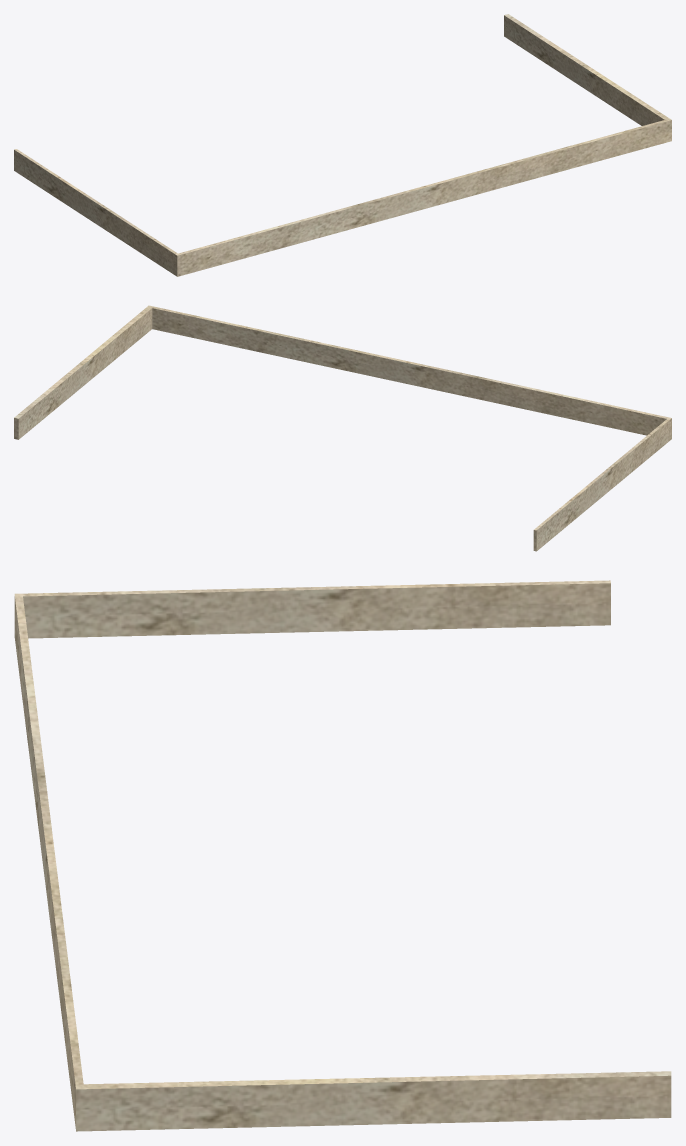
File: concrete_34.fbx
3 renders of one model, top to bottom at view 1: azimuth 30°, elevation 25°; view 2: azimuth 150°, elevation 25°; view 3: azimuth 270°, elevation 25°, orthographic. The views are drawn at different scales.
Visible parts, largest first — view 1: concrete_34; view 2: concrete_34; view 3: concrete_34.
Part boxes in pixels (left/top/right/bottom): concrete_34: left=14, top=14, right=671, bottom=276; concrete_34: left=14, top=305, right=671, bottom=551; concrete_34: left=14, top=580, right=671, bottom=1131.
Size of the model in its own units: 777 by 30 by 424.
